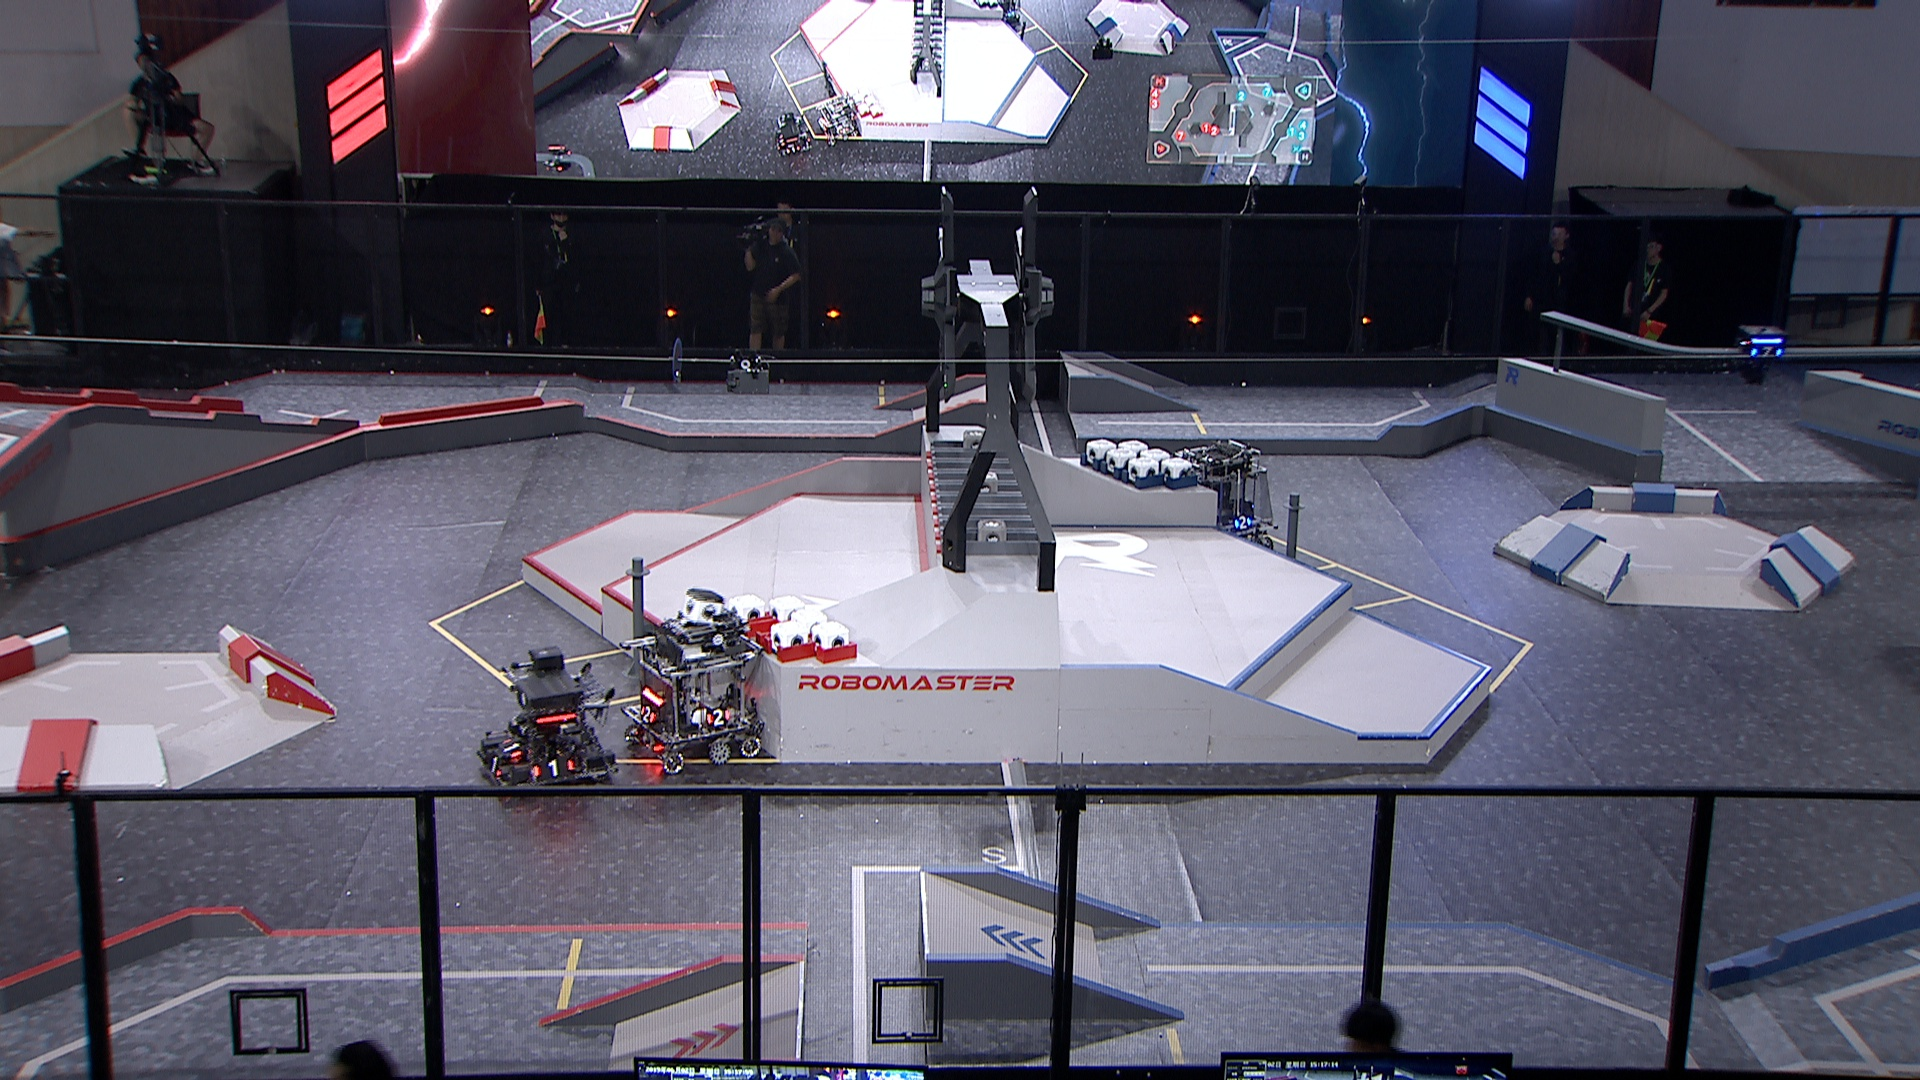armor: (529, 760, 574, 779), (498, 736, 524, 760), (637, 703, 659, 725), (707, 707, 731, 727), (485, 756, 504, 778), (1750, 345, 1784, 357), (1233, 516, 1254, 531)
car: (615, 613, 767, 774), (472, 646, 618, 799), (1158, 436, 1278, 553)
ignore: (814, 96, 864, 142), (771, 112, 814, 152)
watcher: (1731, 324, 1789, 392)
